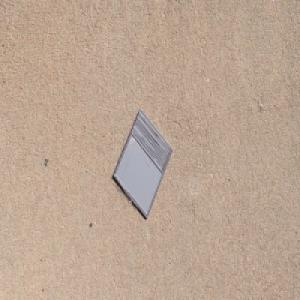PlasticPart: (112, 106, 174, 220)
